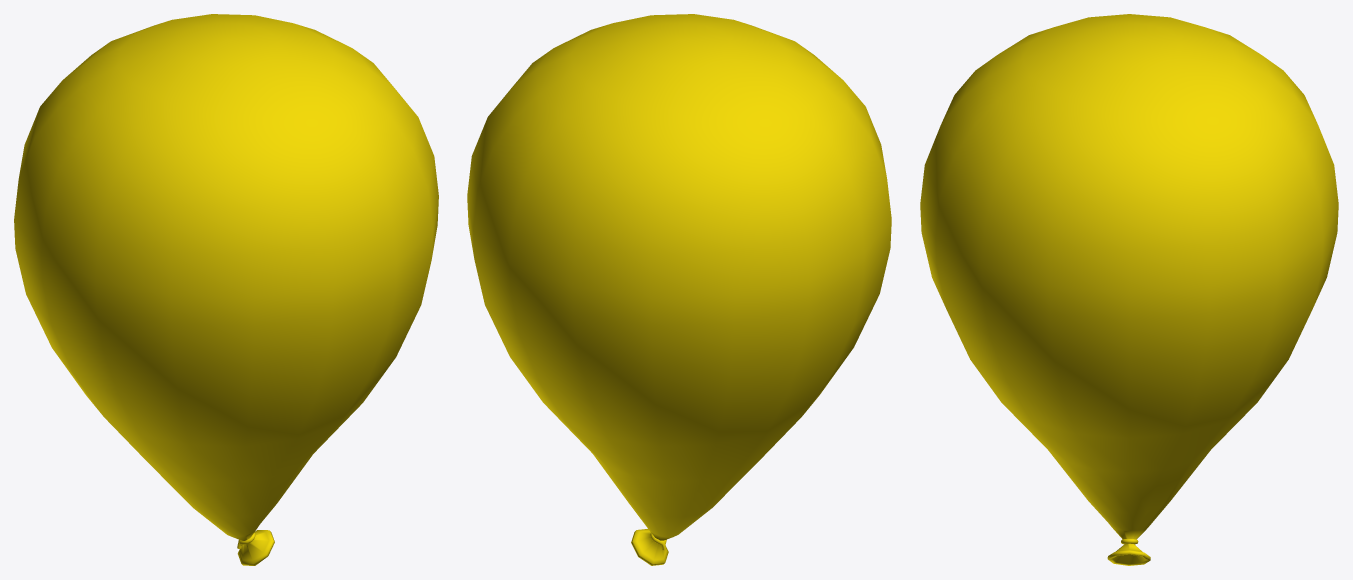
File: yellowBloon.glb
3 views of the same model, side by side, from view 1: azimuth 30°, elevation 25°; view 2: azimuth 150°, elevation 25°; view 3: azimuth 270°, elevation 25° (orthographic). The views are drawn at different scales.
Bounding box in the file's own units: 0.3749 × 0.5127 × 0.3749.
